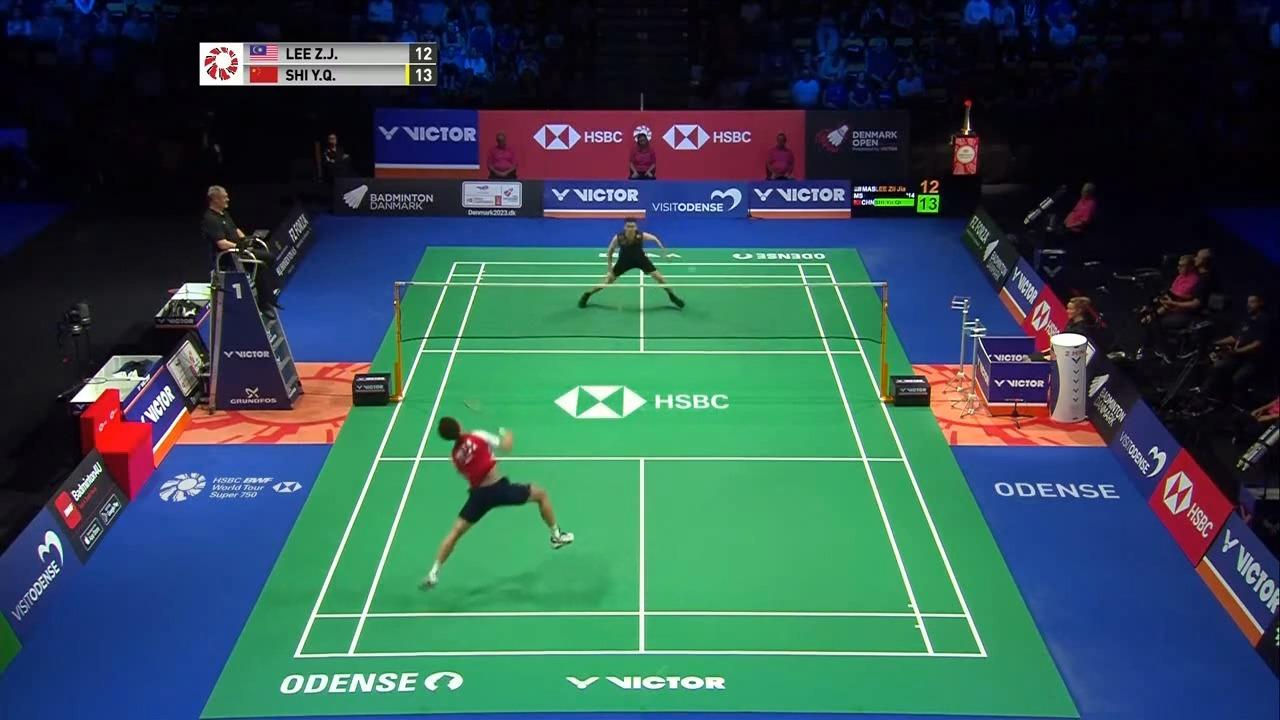shuttle: (685, 264, 700, 282)
